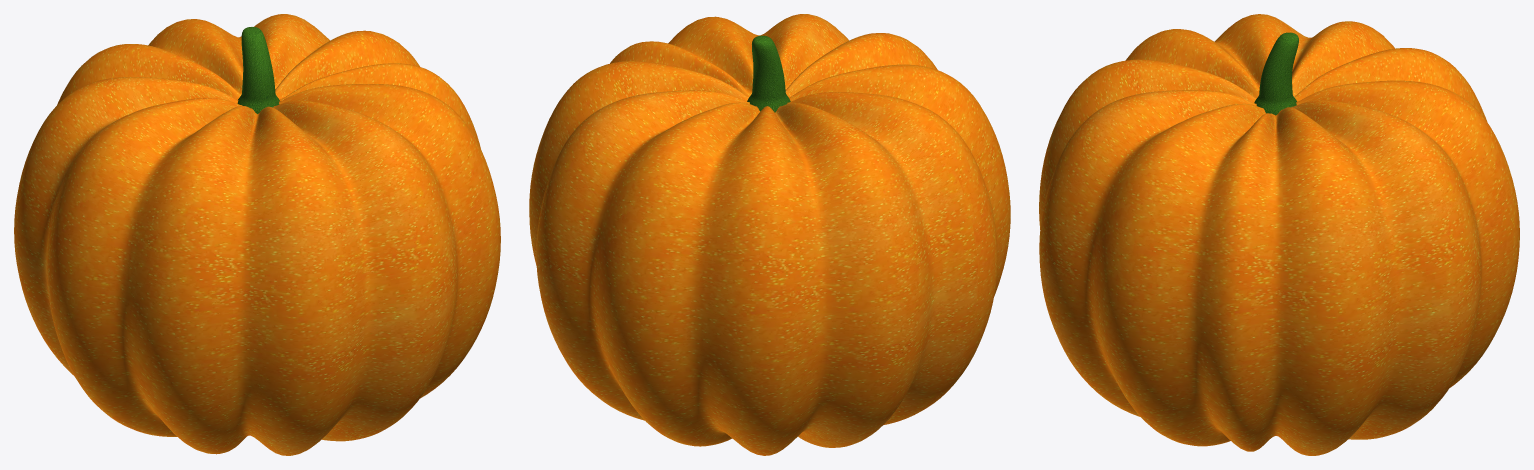
The model's file is pumpkin.glb.
The picture shows the model from 3 angles, left to right: view 1: azimuth 30°, elevation 25°; view 2: azimuth 150°, elevation 25°; view 3: azimuth 270°, elevation 25°; orthographic projection.
Parts seen in each view (by area): view 1: Pumpkin; view 2: Pumpkin; view 3: Pumpkin.
Boxes of the visible parts, x1,y1,x2,y2 form: Pumpkin: (14,14,500,455); Pumpkin: (529,14,1010,455); Pumpkin: (1039,14,1519,455).
Size of the model in its own units: 1.93 by 1.7 by 1.93.
Materials: 2 (2 with a texture image).
